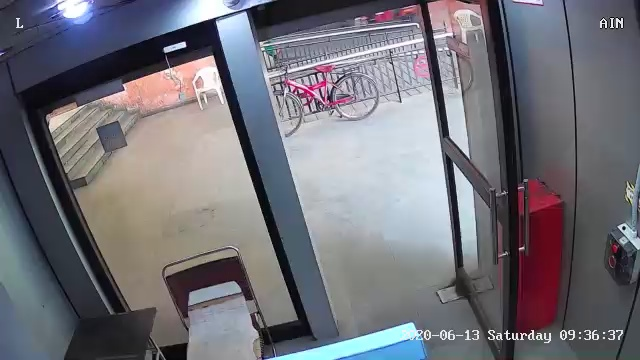open: (394, 3, 546, 356)
